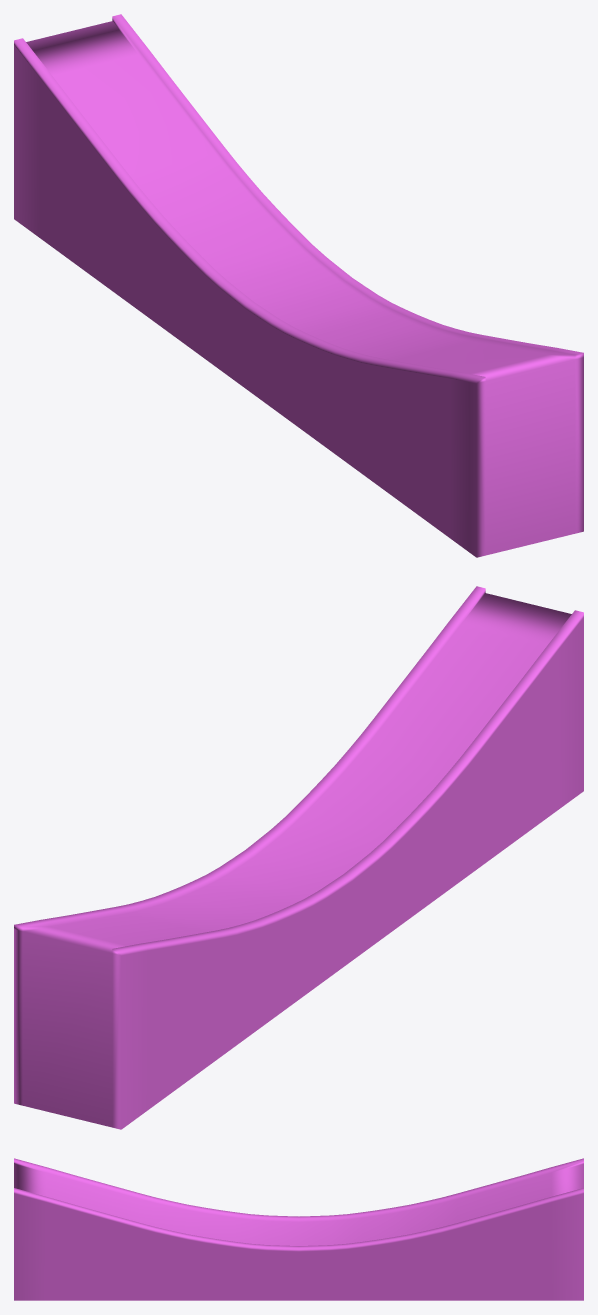
The model's file is RD_Dip_Tall1.fbx.
3 views of the same model, one above another, from view 1: azimuth 30°, elevation 25°; view 2: azimuth 150°, elevation 25°; view 3: azimuth 270°, elevation 25° (orthographic). The views are drawn at different scales.
Parts seen in each view (by area): view 1: Mesh; view 2: Mesh; view 3: Mesh.
Boxes of the visible parts, bbox=[...] form: Mesh: bbox=[14, 14, 583, 557]; Mesh: bbox=[14, 586, 583, 1129]; Mesh: bbox=[14, 1158, 583, 1300].
Bounding box in the file's own units: 480 × 764 × 3582.
